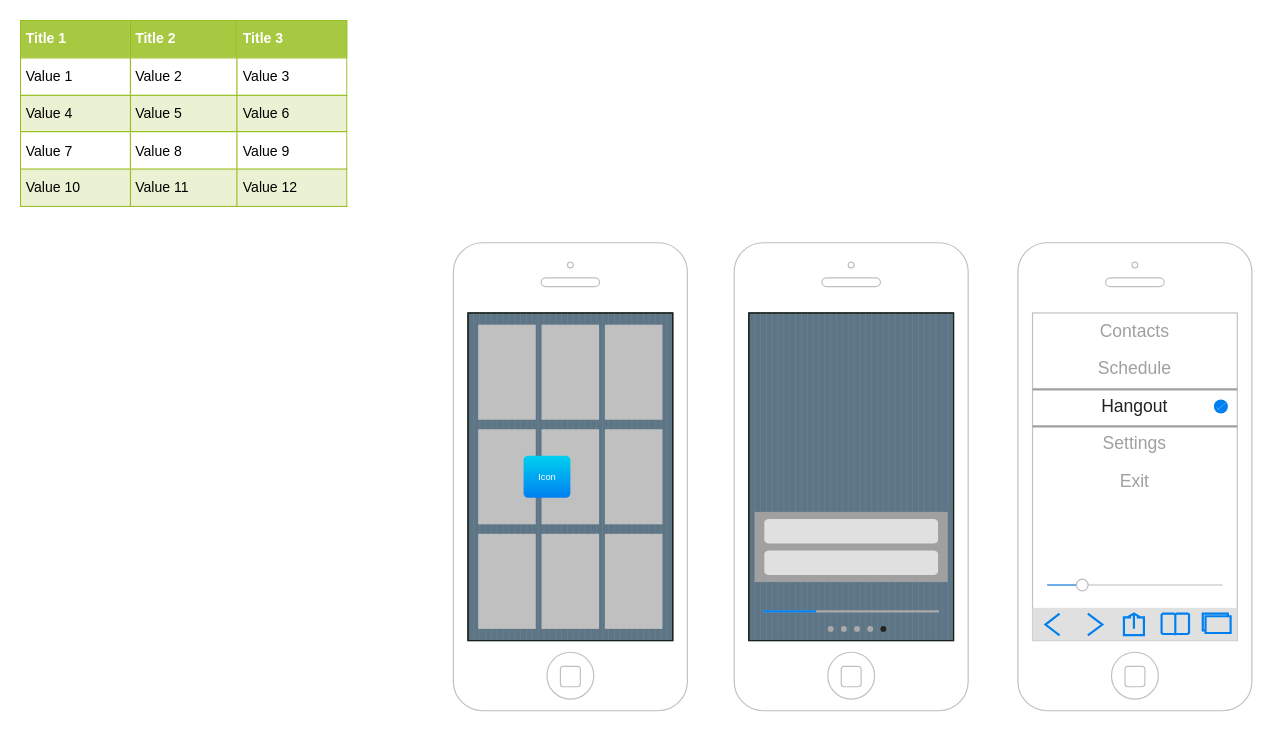
This 1272x731 diagram has some shape labels left out. Here are the shapes that lost their labels. From the top down, the centre of each, then its label:
At (x=850, y=546): "Wait Abort Download".
At (x=850, y=611): "Downloading application".
